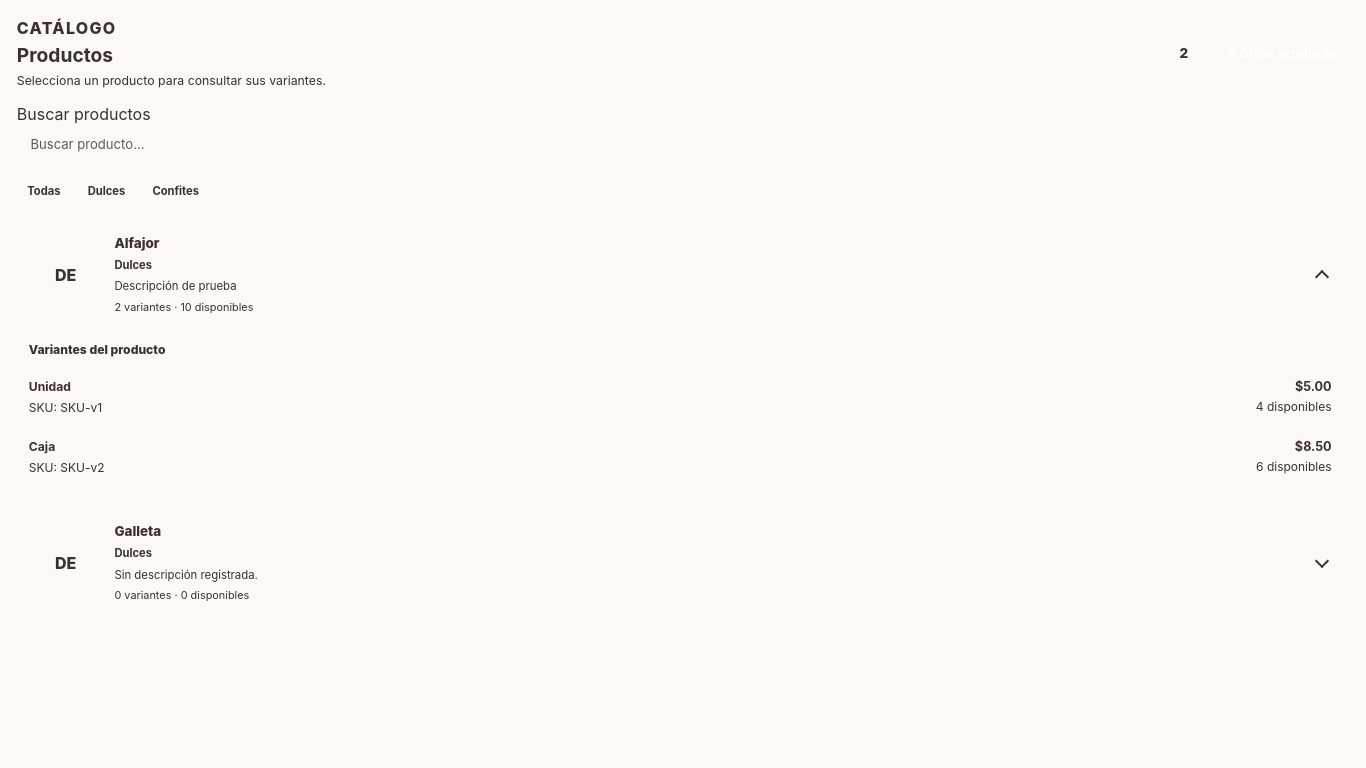
Test: ProductList: lista y navegación › contrae el producto seleccionado cuando se vuelve a pulsar
The image size is (1366, 768).
Step 1. Click the button "Alfajor" → {"x": 137, "y": 243}, box [17,222,1344,328]
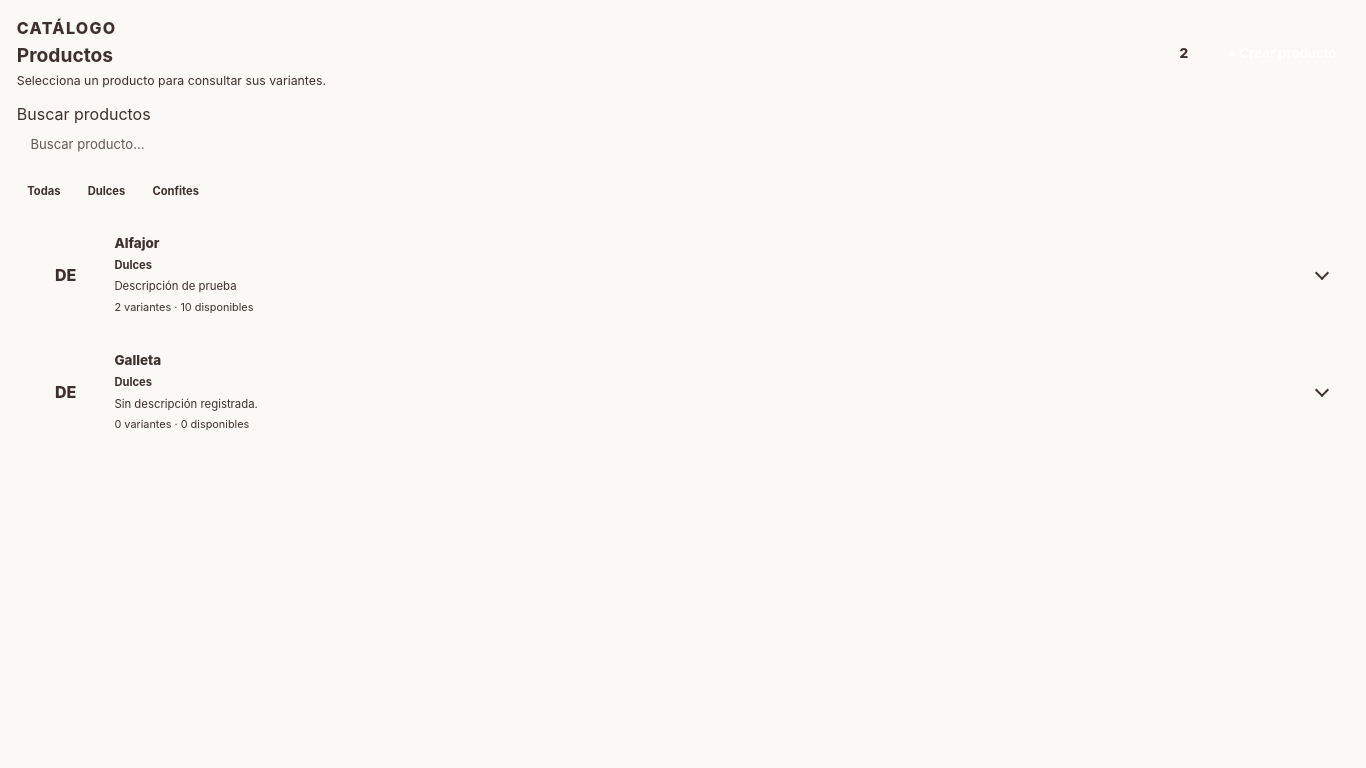
expect the heading "Variantes del producto" is gone: met
